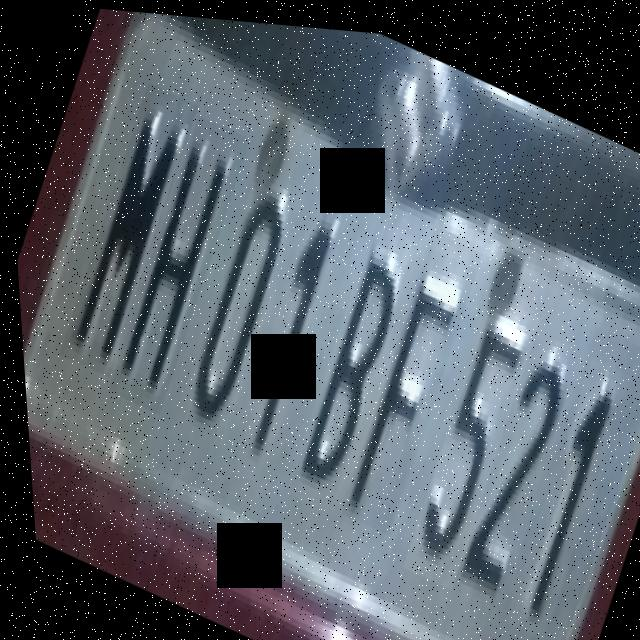0: (152, 158, 323, 453)
1: (205, 184, 362, 489), (483, 341, 640, 638)
5: (380, 280, 552, 590)
B: (265, 206, 436, 517)
F: (321, 233, 488, 536)
H: (88, 104, 264, 420)
M: (40, 73, 211, 383)
